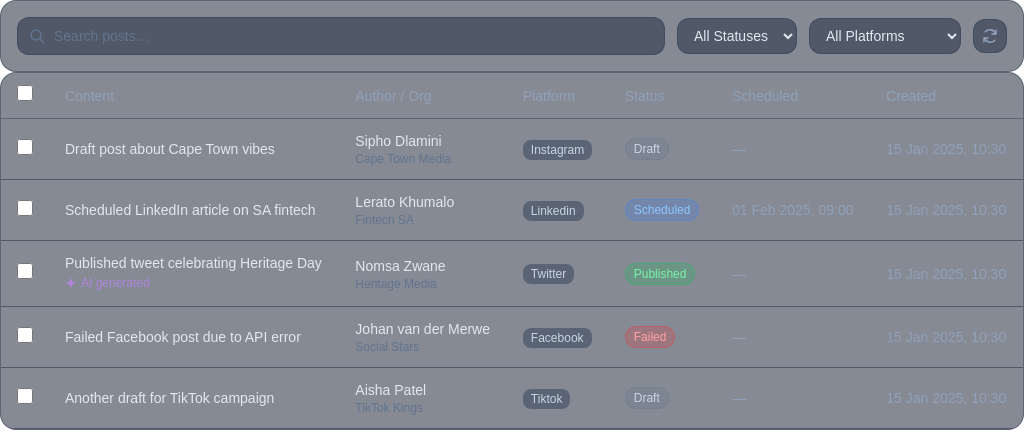
Test case: PostModerationTable › Filtering › filters by status
The width and height of the screenshot is (1024, 447).
Select "Draft" in the dropdown named "filter by status" at (737, 36), box [677, 18, 797, 54]
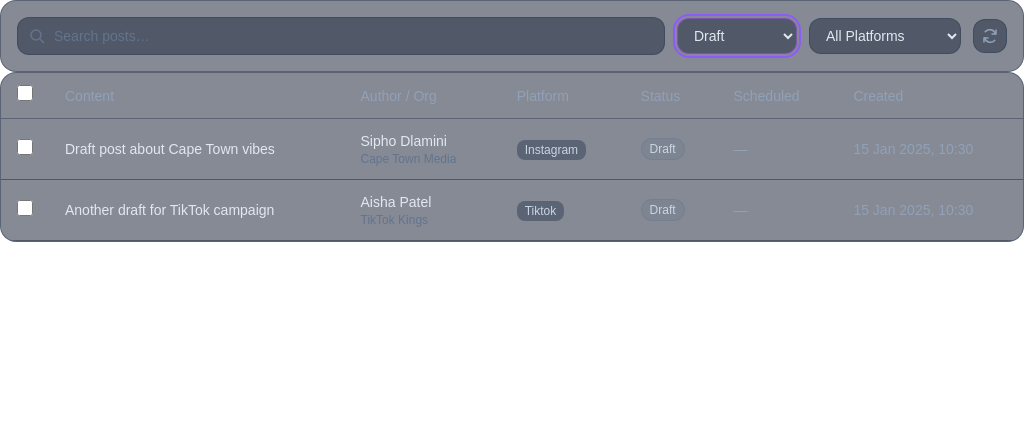
Check: the text "Draft post about Cape Town vibes" is shown, box [65, 139, 275, 159]
Check: the button "Scheduled LinkedIn article" is gone
Check: the button "Published tweet celebrating" is gone
